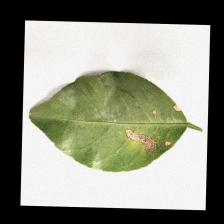canker: (109, 120, 176, 154)
